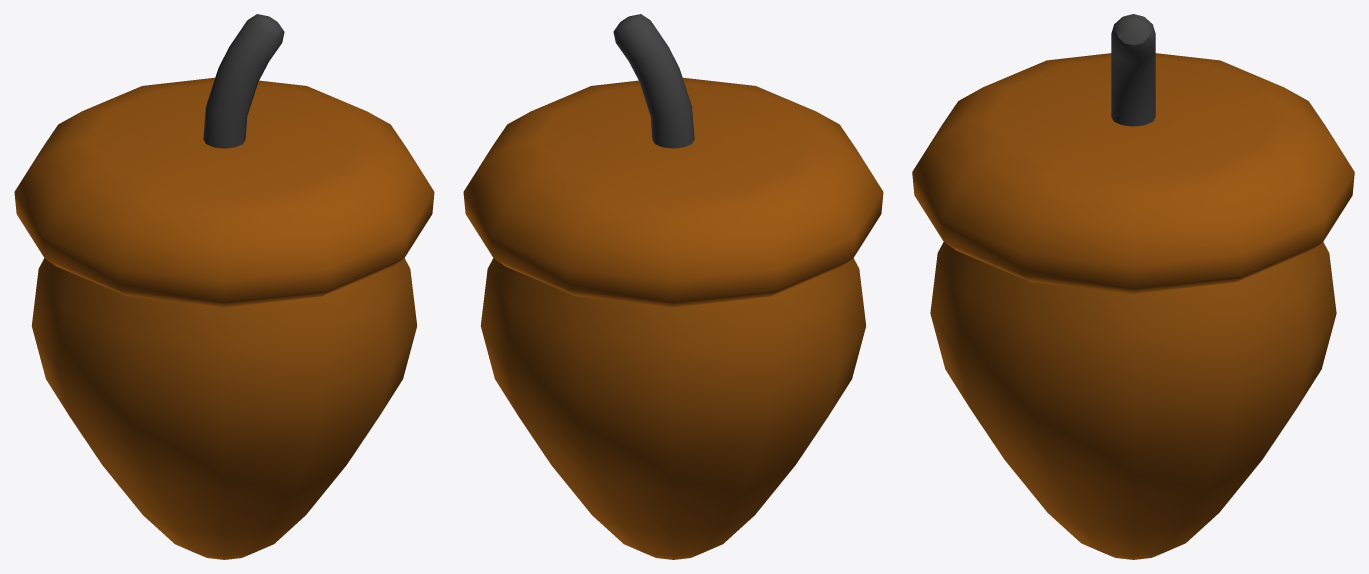
Rendered from Pine Nuts.fbx.
3 renders of one model, left to right at view 1: azimuth 30°, elevation 25°; view 2: azimuth 150°, elevation 25°; view 3: azimuth 270°, elevation 25°, orthographic. The views are drawn at different scales.
Parts seen in each view (by area): view 1: Pine Nuts; view 2: Pine Nuts; view 3: Pine Nuts.
Boxes of the visible parts, box(x1,y1,x2,y2) form: Pine Nuts: box(14, 14, 434, 559); Pine Nuts: box(463, 14, 883, 559); Pine Nuts: box(912, 14, 1354, 559).
Size of the model in its own units: 0.0917 by 0.127 by 0.0917.
